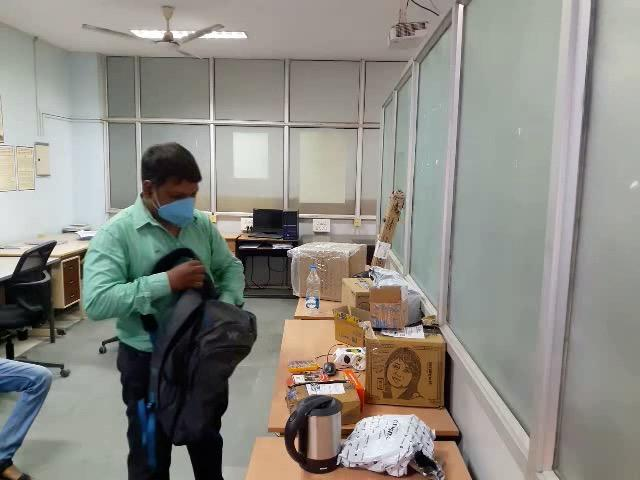shoplifting: (47, 231, 319, 441)
